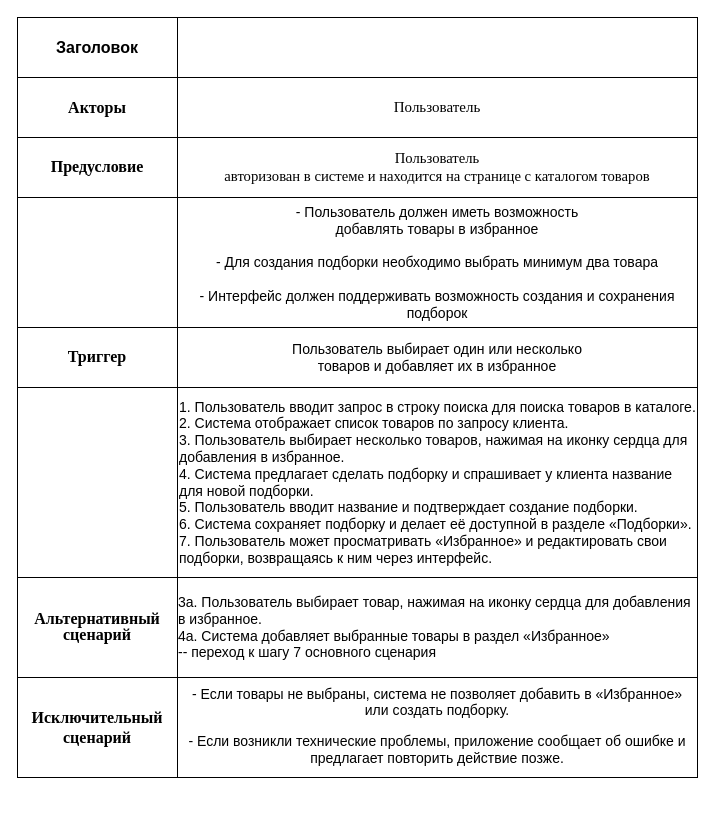
Image size: 723x832. Some labels were removed from this diagram. Each missing label, with the centre of its shape:
"Добавление в «Избранное» и создание подборки товаров" goes at pixel 437 47.
"Ограничения" goes at pixel 97 262.
"Основной сценарий" goes at pixel 97 482.
